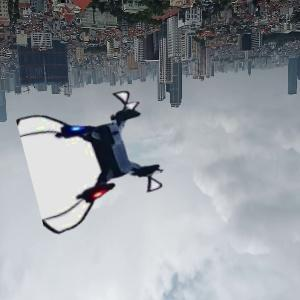drone: (29, 92, 163, 226)
